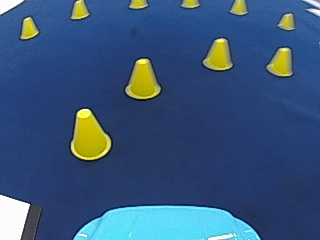cone: (69, 108, 110, 160), (124, 56, 160, 99), (202, 37, 233, 70), (266, 47, 293, 77), (19, 16, 38, 39), (70, 0, 89, 19), (277, 12, 295, 30), (229, 0, 247, 15), (129, 0, 146, 9), (182, 0, 198, 8)
